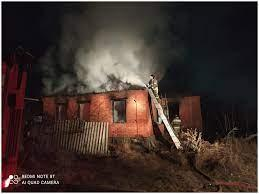smoke: (35, 0, 198, 130)
